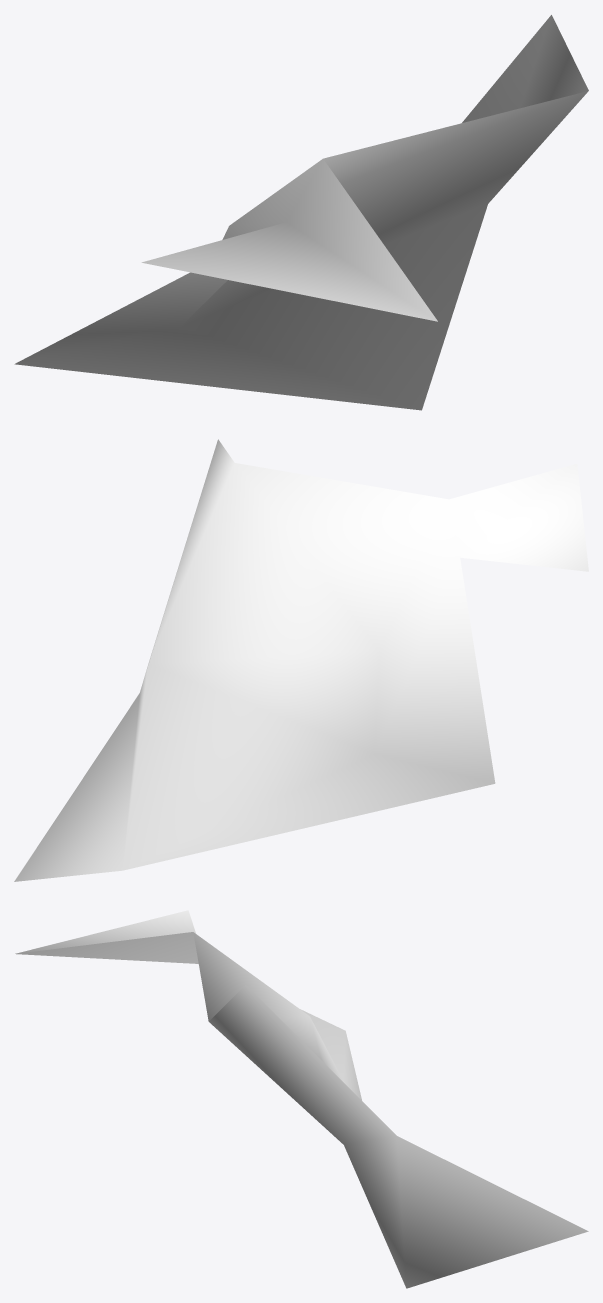
3 views of the same model, one above another, from view 1: azimuth 30°, elevation 25°; view 2: azimuth 150°, elevation 25°; view 3: azimuth 270°, elevation 25° (orthographic). The views are drawn at different scales.
Size of the model in its own units: 0.3741 by 0.3713 by 0.6364.
1 material, 1 textured.
